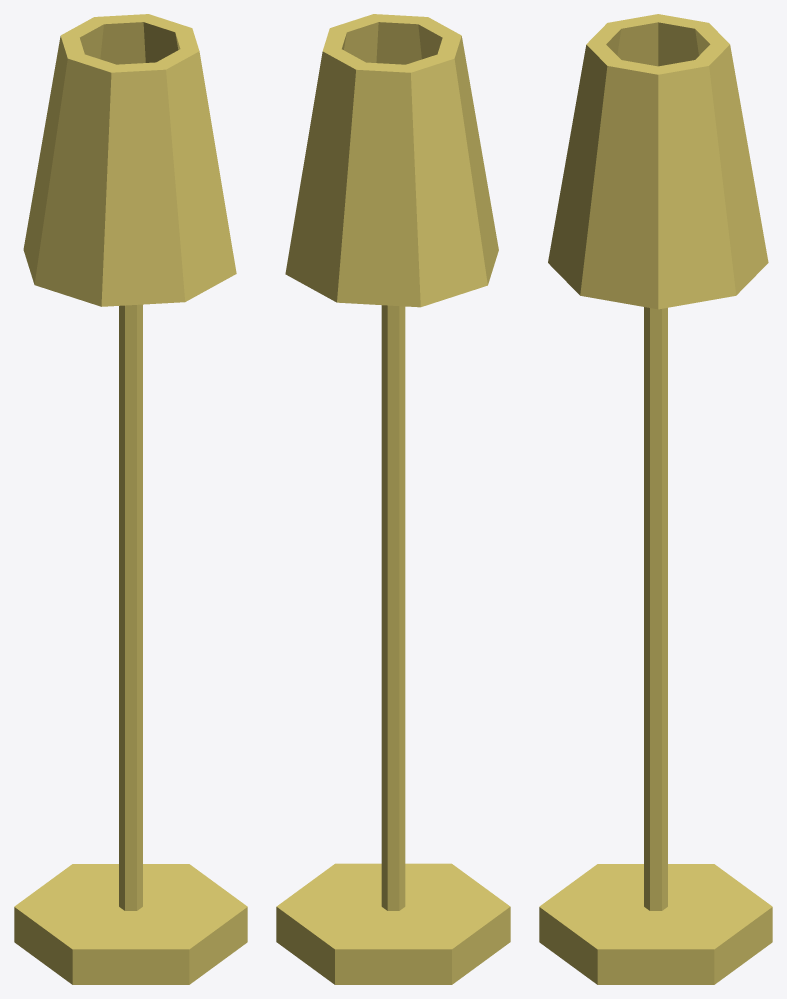
Rendered from prop_lamp.glb.
The picture shows the model from 3 angles, left to right: view 1: azimuth 30°, elevation 25°; view 2: azimuth 150°, elevation 25°; view 3: azimuth 270°, elevation 25°; orthographic projection.
Visible parts, largest first — view 1: Lamp_Cylinder.003; view 2: Lamp_Cylinder.003; view 3: Lamp_Cylinder.003.
Boxes of the visible parts, box(x1,y1,x2,y2) form: Lamp_Cylinder.003: box(14, 14, 247, 984); Lamp_Cylinder.003: box(276, 14, 510, 984); Lamp_Cylinder.003: box(539, 14, 772, 984).
Bounding box in the file's own units: 0.2313 × 1.04 × 0.2449.
